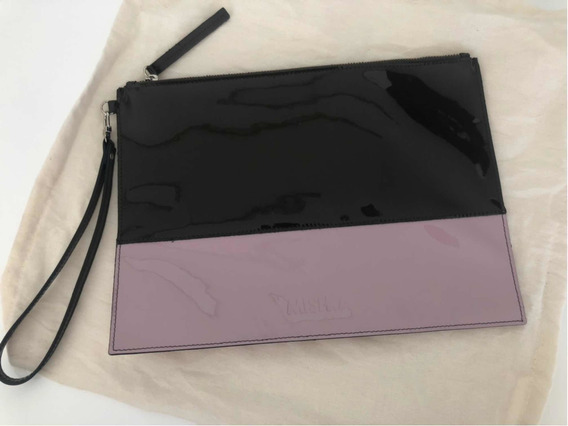cartera: (101, 50, 531, 358)
